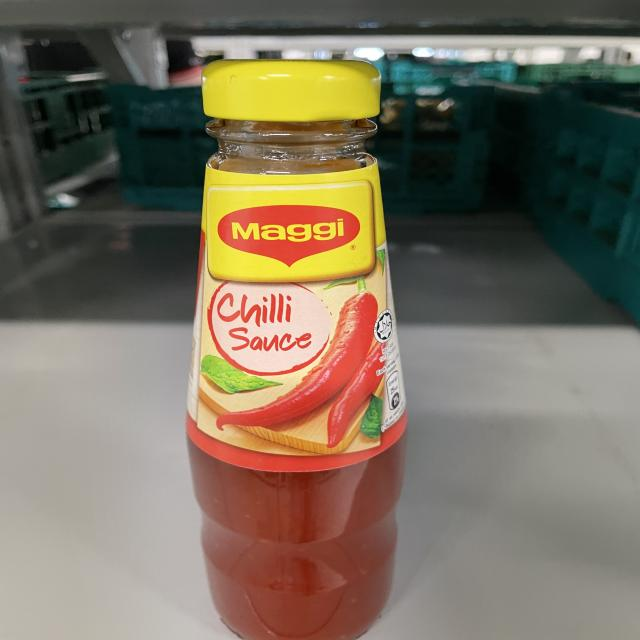object_name: (217, 72, 376, 639)
